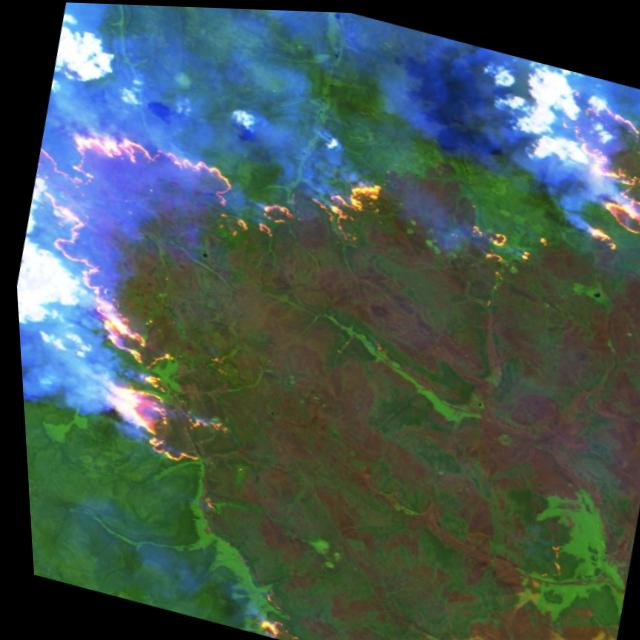fire: (5, 103, 318, 488), (523, 62, 640, 263), (297, 153, 393, 247), (455, 203, 558, 281)
